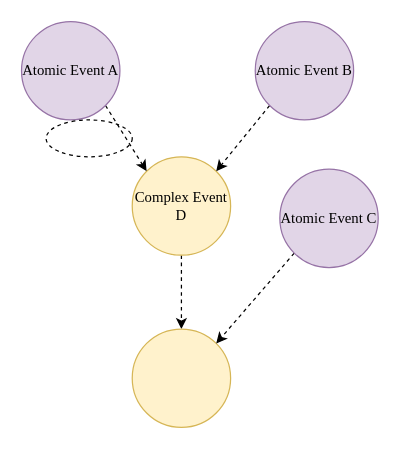
This 400x449 diagram has some shape labels left out. The shapes that lost their labels are listed below. From the top down, each one's centre as x and y in pixels, then its label:
At (x=88, y=138): "composed of".
At (x=181, y=377): "Complex Event E".
